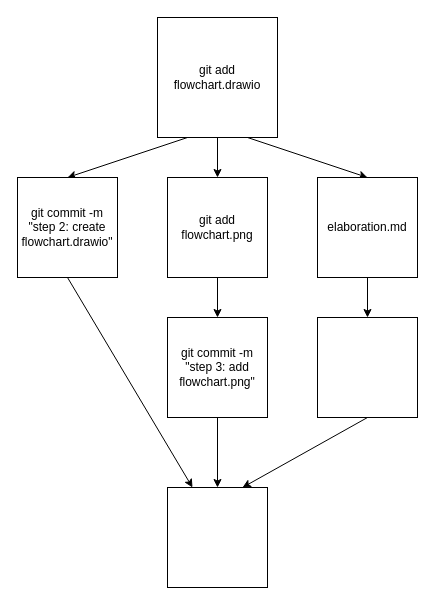
The diagram is 435 pixels wide and 605 high, and some of its shapes have lost their labels. Each missing label, with the centre of its shape:
commit: pixel 217 537
git commit -m "step 4: add elaboration.md": pixel 367 367
